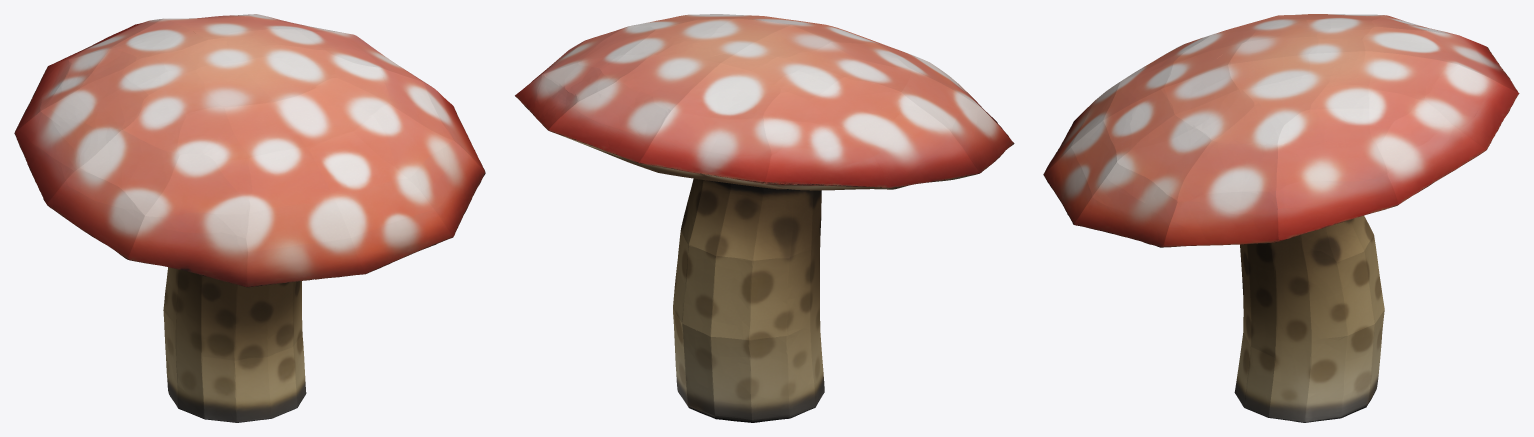
3 renders of one model, left to right at view 1: azimuth 30°, elevation 25°; view 2: azimuth 150°, elevation 25°; view 3: azimuth 270°, elevation 25°, orthographic. The views are drawn at different scales.
Parts seen in each view (by area): view 1: world; view 2: world; view 3: world.
Boxes of the visible parts, x1,y1,x2,y2 form: world: (14, 14, 485, 422); world: (515, 14, 1014, 422); world: (1043, 14, 1519, 422).
Bounding box in the file's own units: 1 × 0.7832 × 0.989.
Materials: 1 (1 with a texture image).
